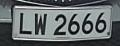2: (52, 12, 68, 38)
6: (67, 12, 81, 37), (94, 12, 108, 35), (81, 12, 94, 36)
L: (17, 12, 33, 36)
W: (33, 12, 49, 37)
